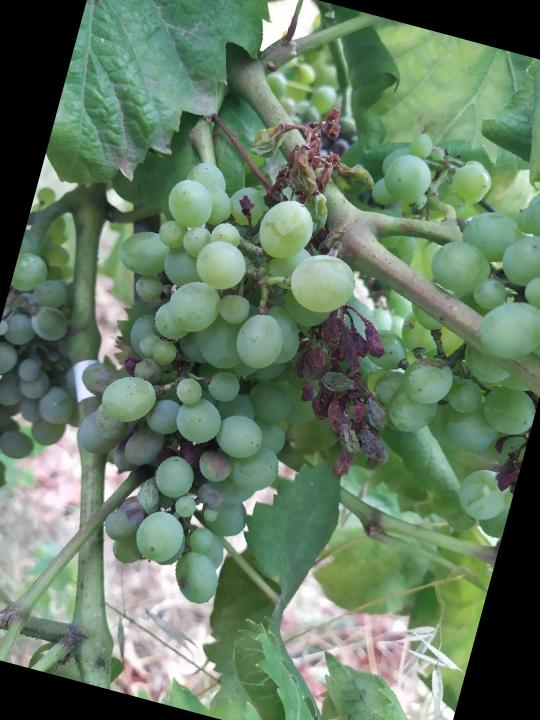grape: (26, 97, 394, 627)
